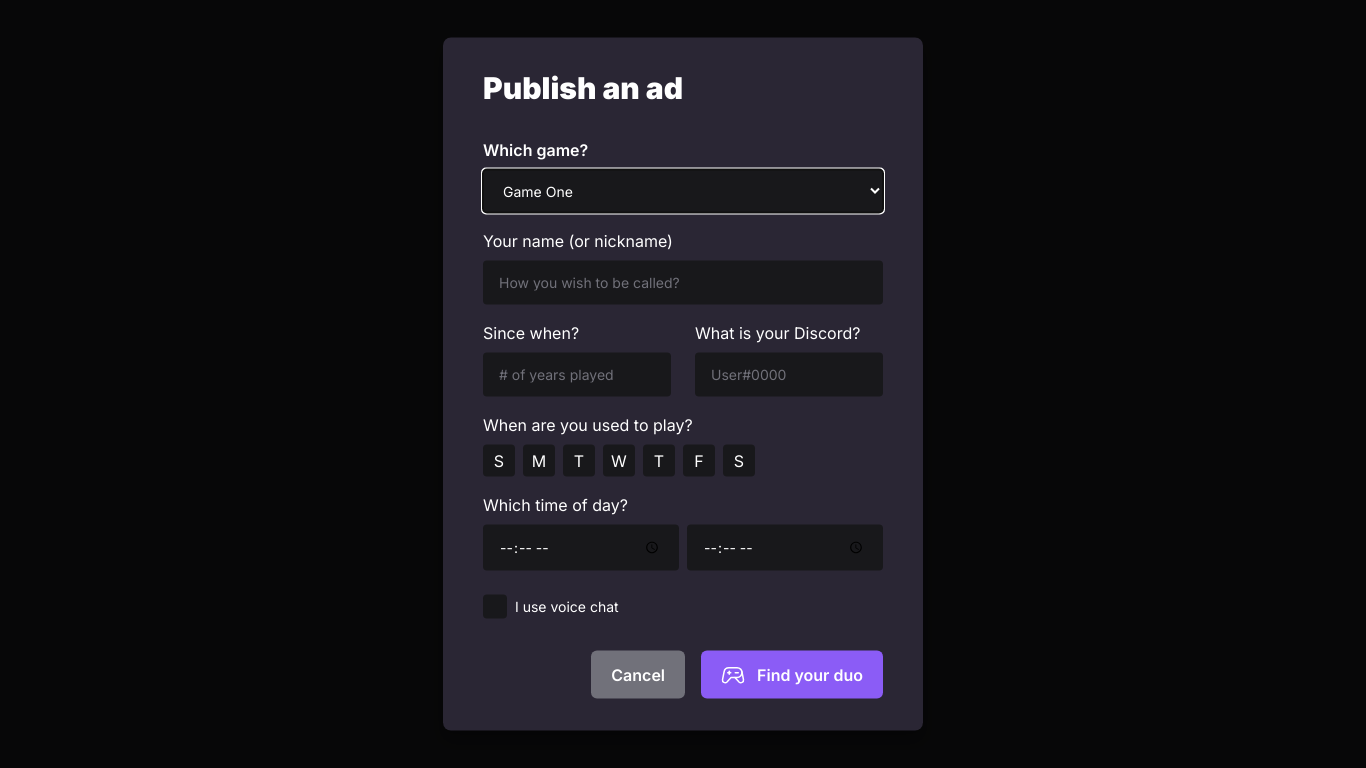
Test: CreateAdModal › rejects equal start and end hours before posting
Earlier steps of the test are not shown.
Step 1. Type "  Player One  " into the field labelled "Your name (or nickname)" → (683, 282), box [483,260,883,304]
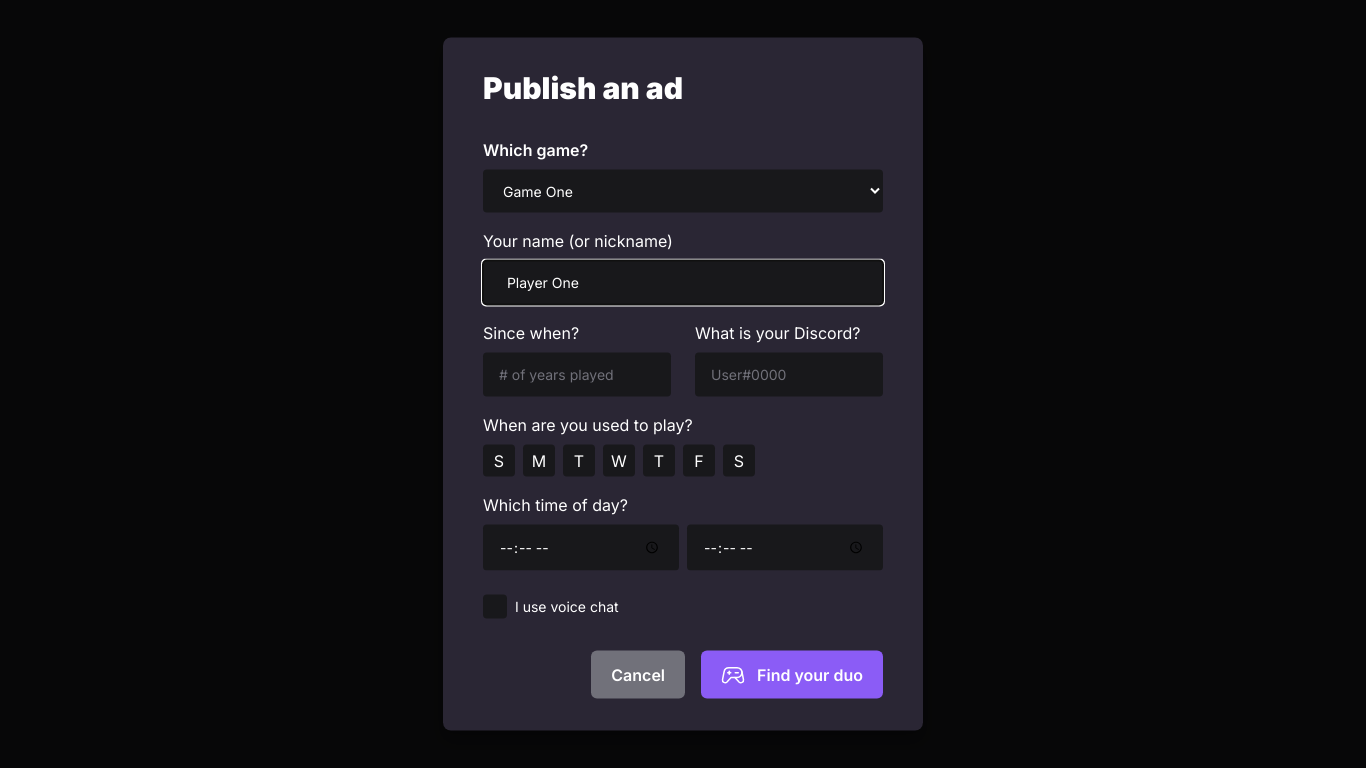
Step 2. Type "3" into the number field labelled "Since when?" → (577, 374), box [483,352,671,396]
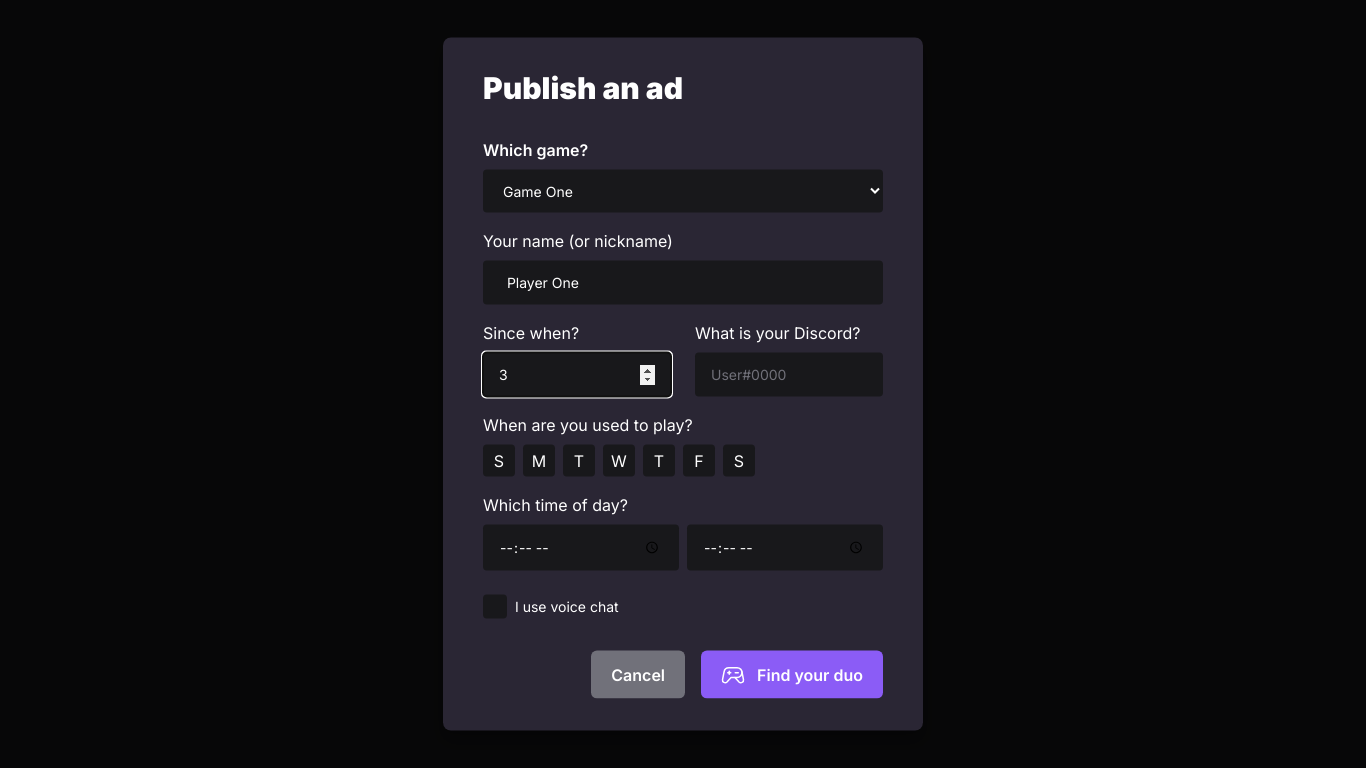
Step 3. Type "player#1234" into the field labelled "What is your Discord?" → (789, 374), box [695,352,883,396]
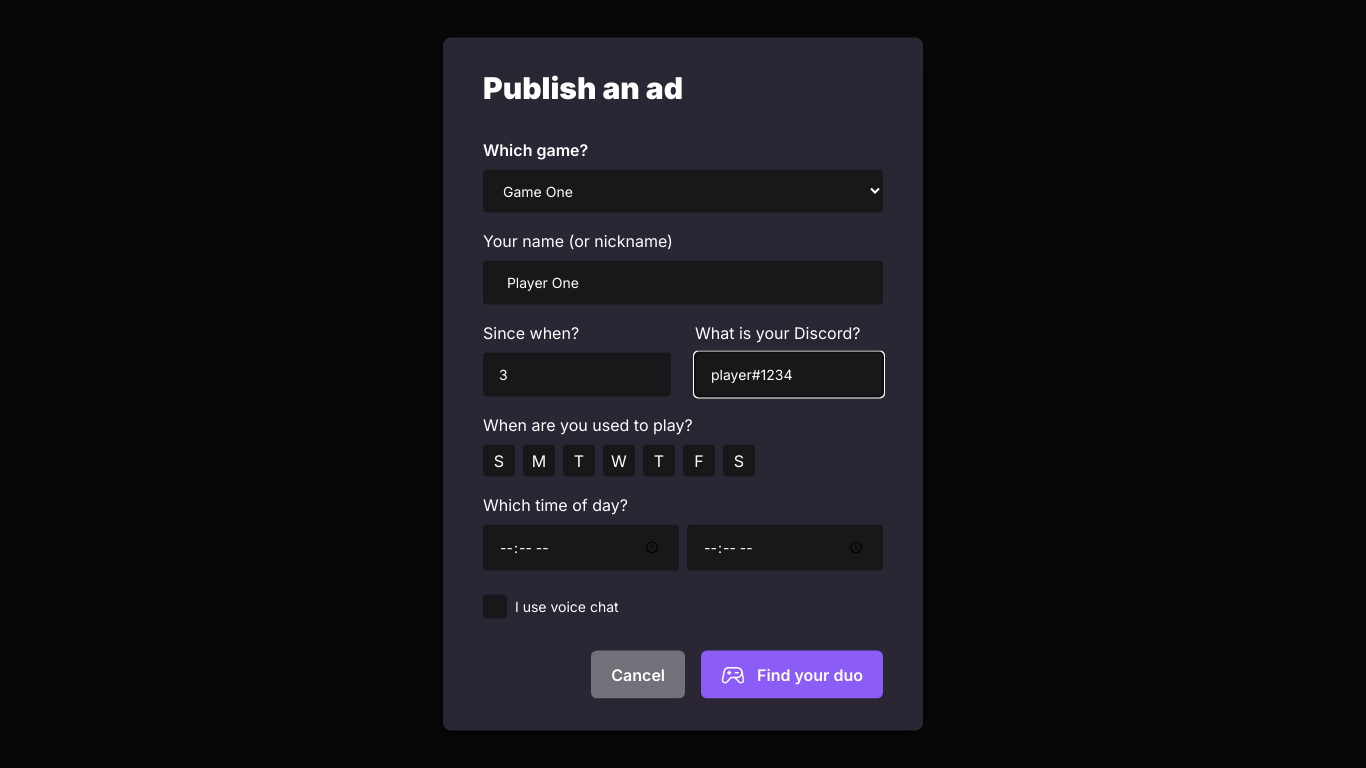
Step 4. Click the button titled "Monday" → (539, 460), box [523,444,555,476]
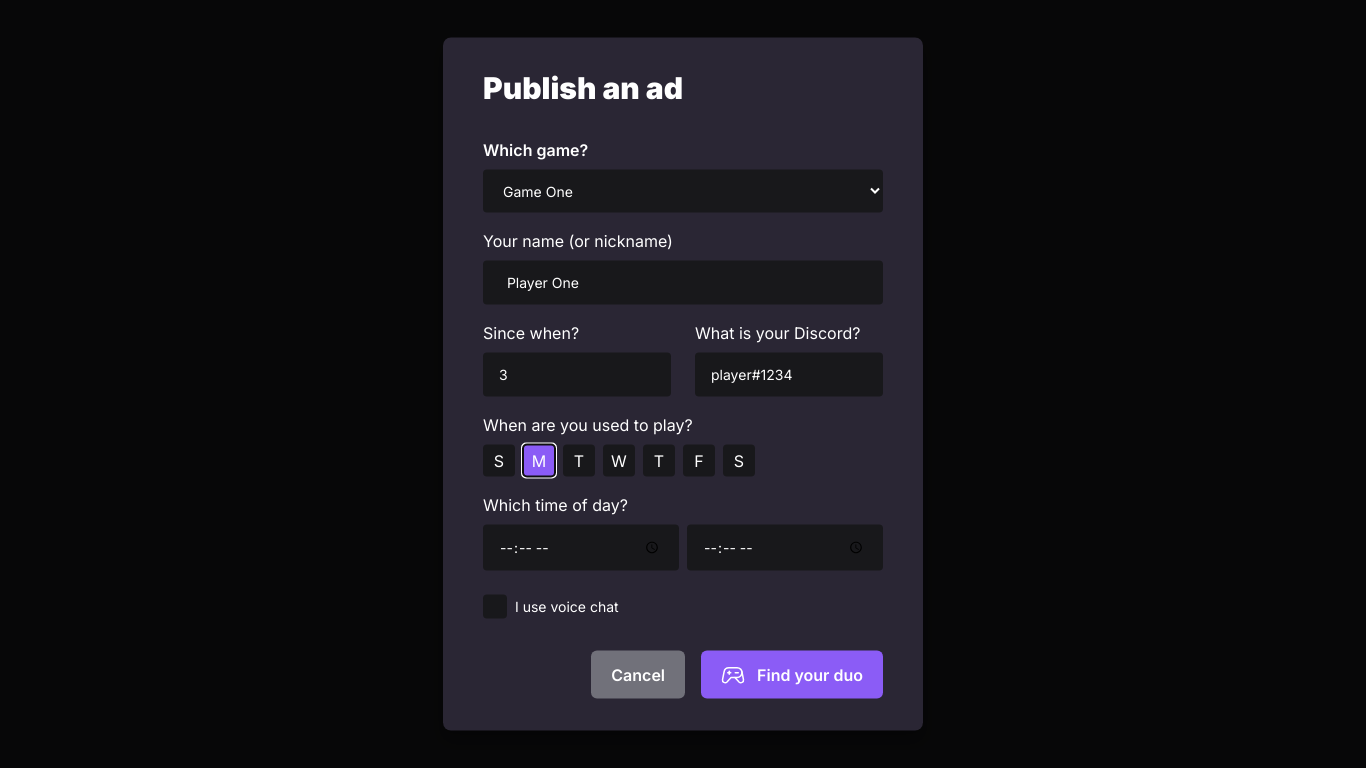
Step 5. Click the button titled "Friday" → (699, 460), box [683,444,715,476]
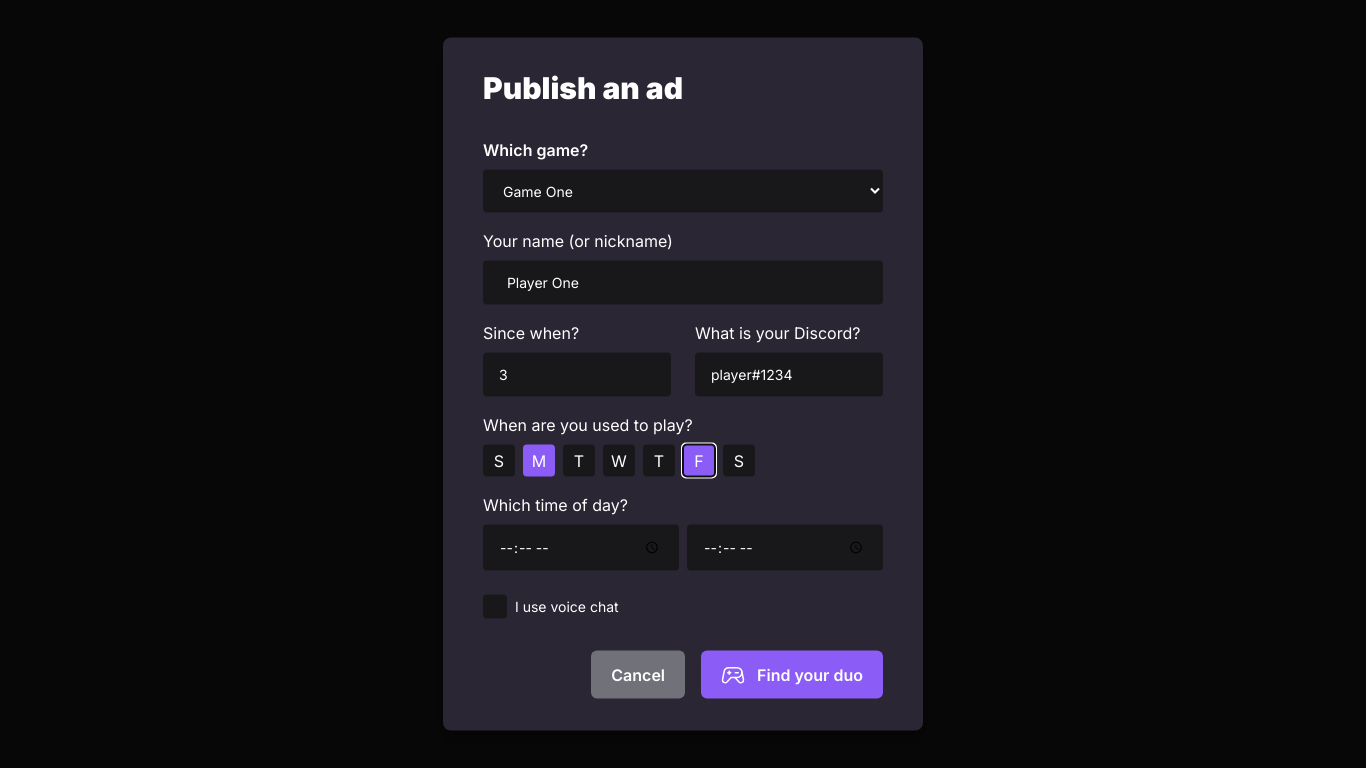
Step 6. Type "20:00" into the time field named "From" → (581, 548), box [483,524,679,570]
Step 7. Type "20:00" into the time field labelled "To" → (785, 548), box [687,524,883,570]
Step 8. Click the button "Find your duo" → (792, 674), box [701,650,883,698]
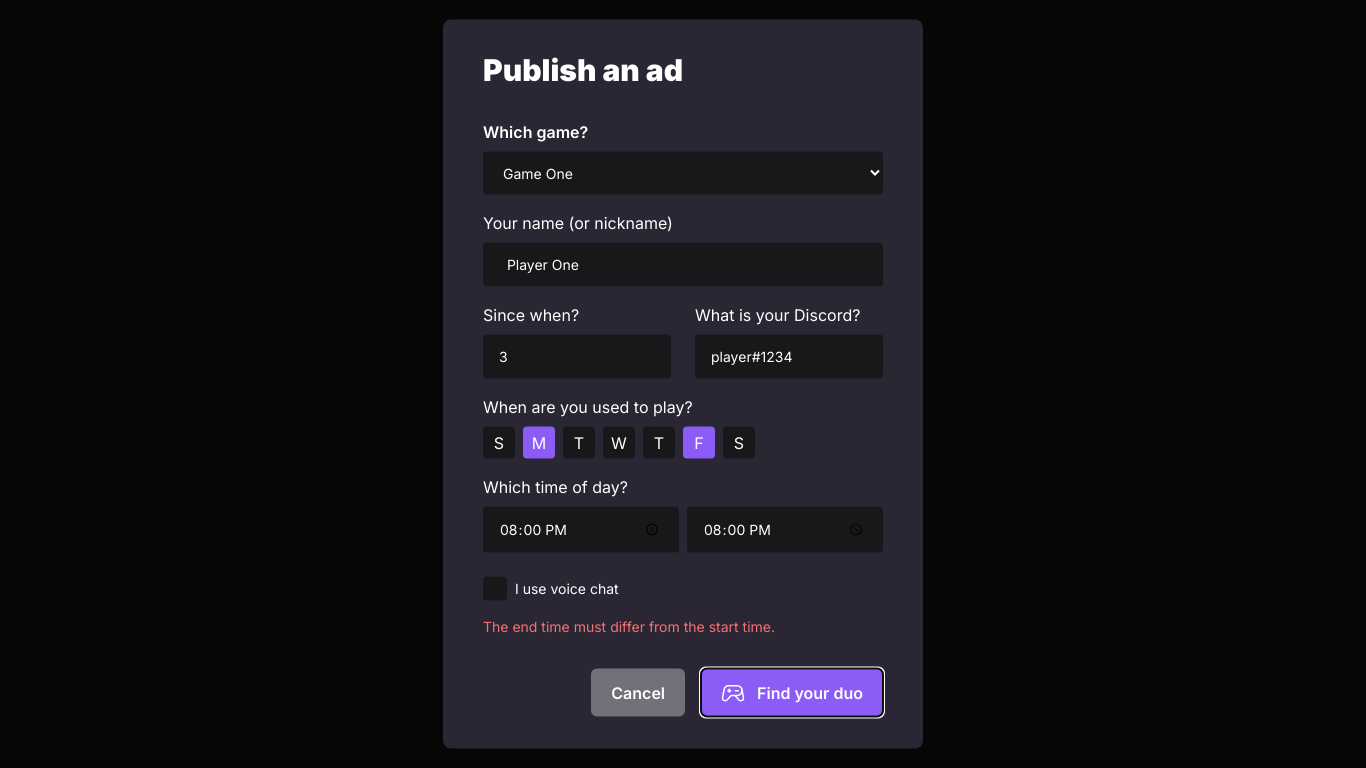
Expected: the message reads "The end time must differ from the start time.", [483,618,775,634]
